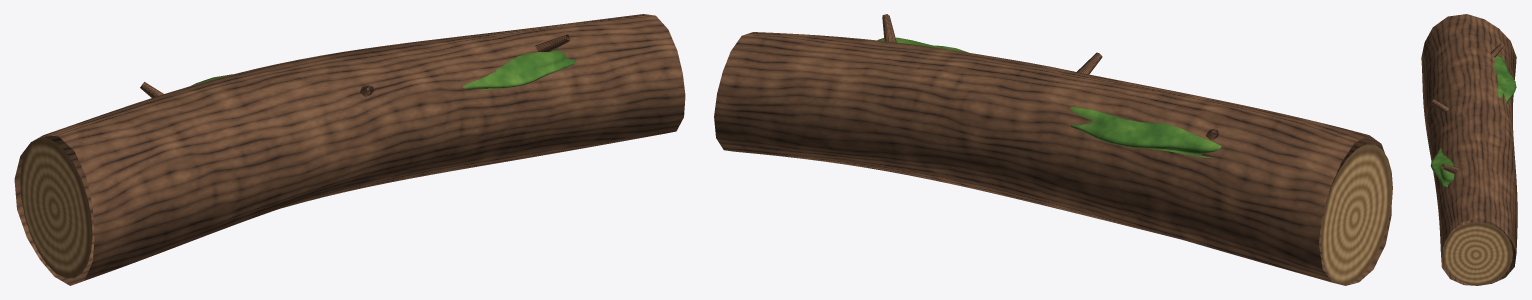
Rendered from taiga_fallen_log.glb.
3 renders of one model, left to right at view 1: azimuth 30°, elevation 25°; view 2: azimuth 150°, elevation 25°; view 3: azimuth 270°, elevation 25°, orthographic. The views are drawn at different scales.
Visible parts, largest first — view 1: bark_spruce, wood_end, moss; view 2: bark_spruce, wood_end, moss; view 3: bark_spruce, wood_end, moss.
Part boxes in pixels (bbox=[...]): bark_spruce: bbox=[14, 14, 685, 285]; wood_end: bbox=[20, 138, 92, 278]; moss: bbox=[191, 50, 575, 90]; bark_spruce: bbox=[714, 14, 1391, 285]; wood_end: bbox=[1321, 144, 1392, 284]; moss: bbox=[878, 37, 1221, 158]; bark_spruce: bbox=[1421, 14, 1517, 285]; wood_end: bbox=[1443, 222, 1512, 285]; moss: bbox=[1430, 55, 1516, 186].
Size of the model in its own units: 3.12 by 0.7377 by 0.6873.
Materials: 3 (3 with a texture image).
